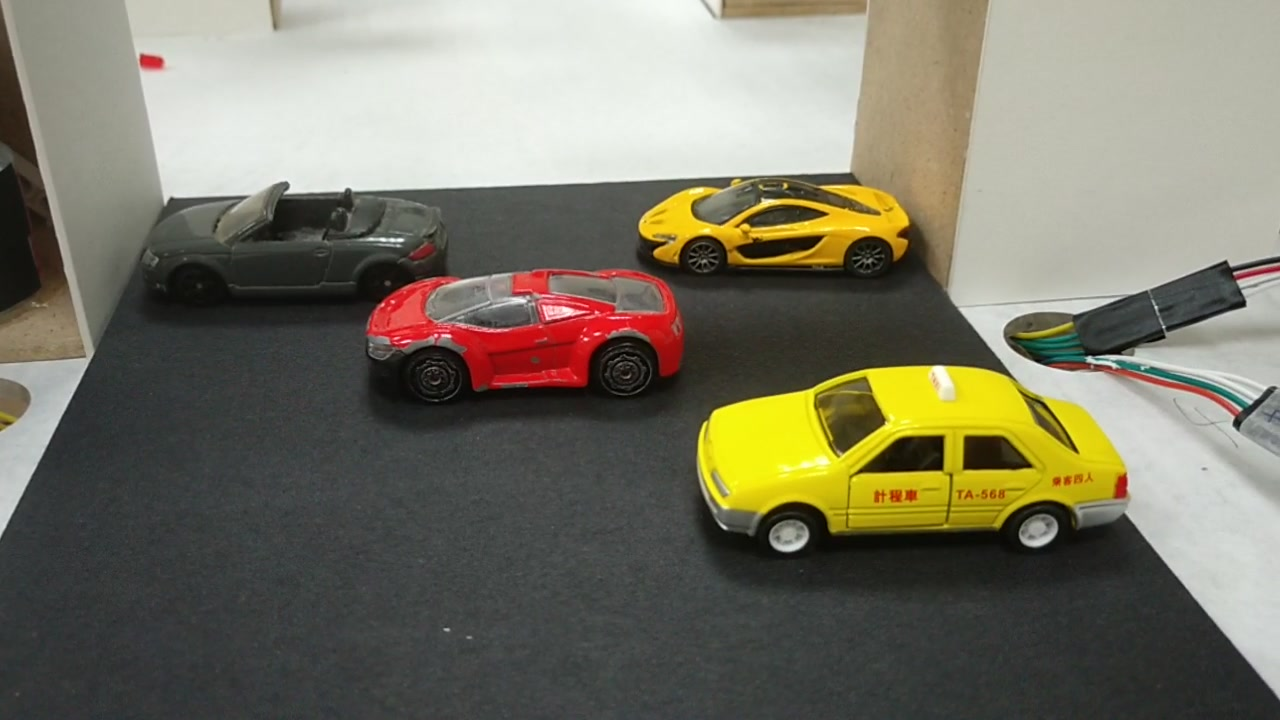car: (693, 383, 1129, 537), (370, 278, 676, 385), (151, 195, 445, 286), (636, 183, 912, 271)
